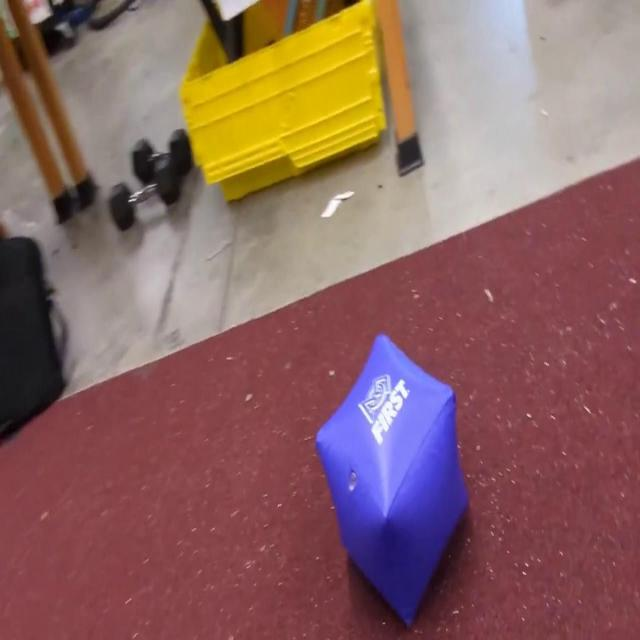frc_cube: (315, 332, 471, 624)
